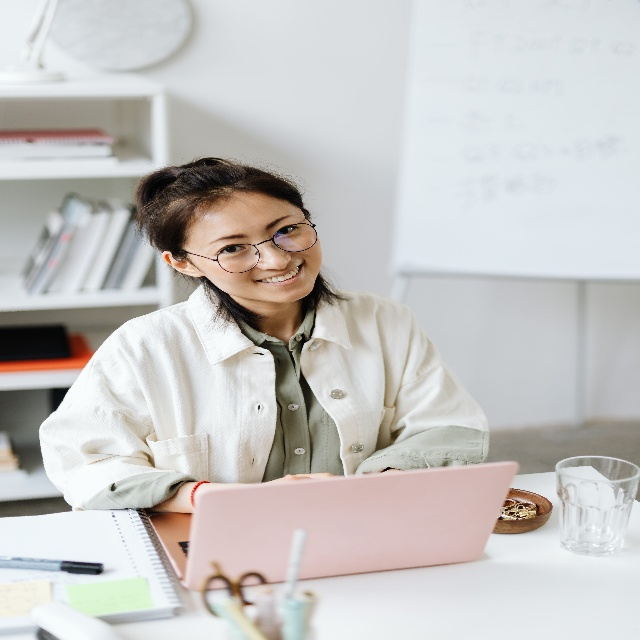Gafas: (184, 214, 317, 273)
